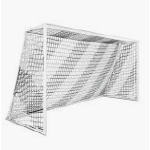goals: (6, 20, 142, 137)
